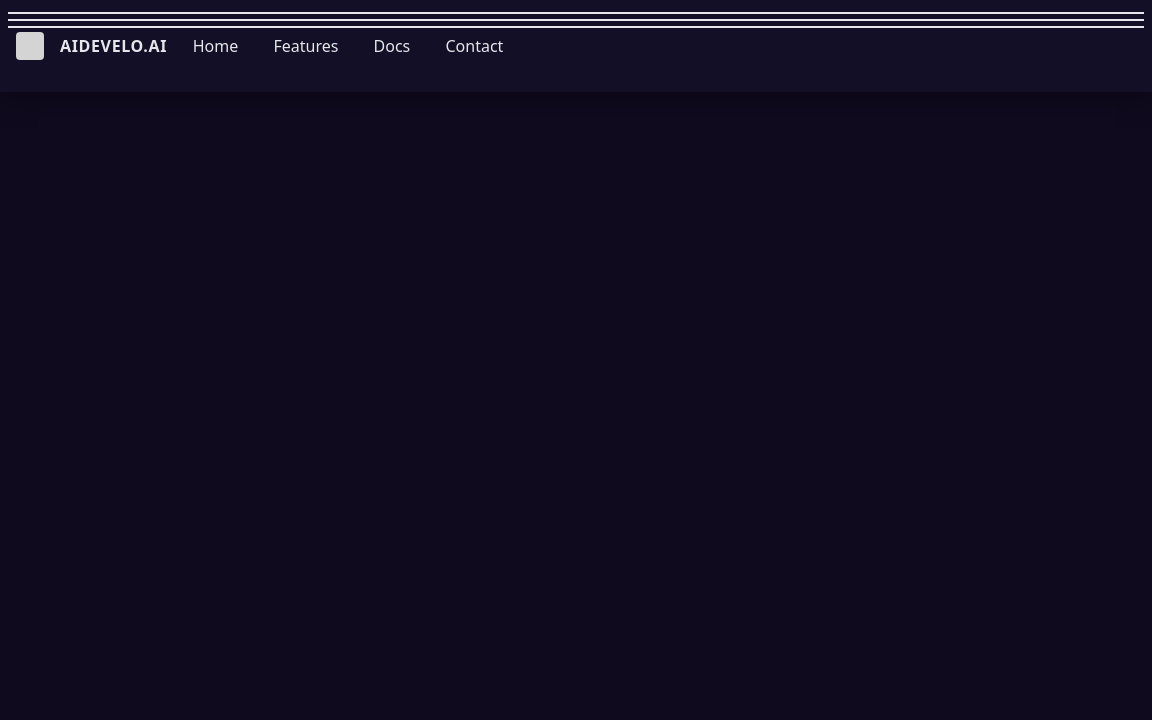
Test case: Navbar › links are reachable by keyboard in drawer
The image size is (1152, 720).
Click the button named "open menu". click: (1114,46)
box: [1092,24,1136,68]
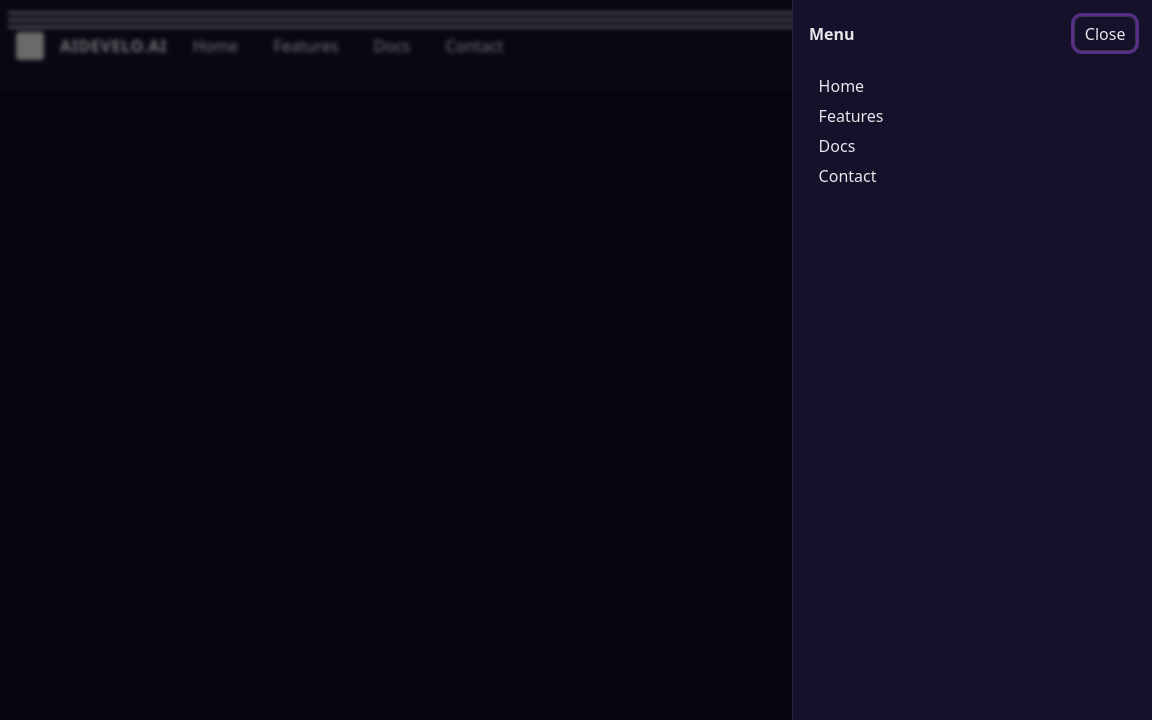
Now the link "Home" is shown, box [819,75,864,97]
